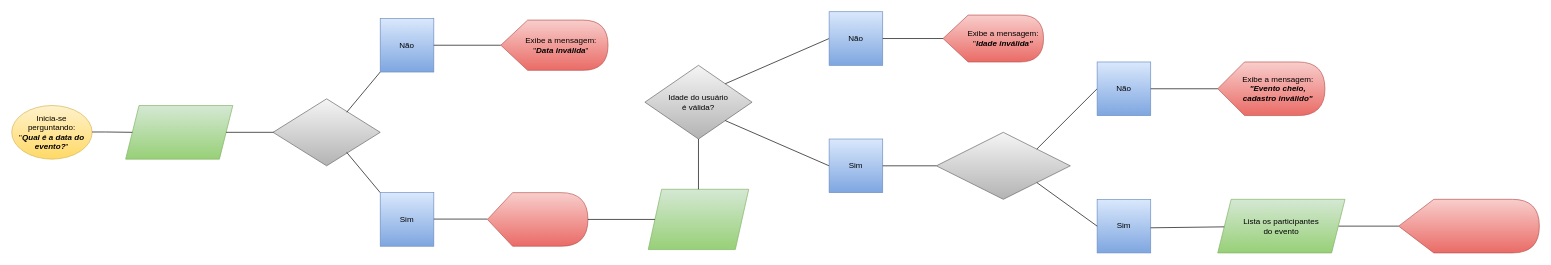
Image size: 1551x265. Some labels were removed from this diagram. Each missing label, with the centre of its shape:
Data do evento é válida?: (326,132)
Exibe a mensagem: " Cadastro realizado com sucesso!": (1468,226)
Exibe a mensagem: " Informe a sua idade ": (537,219)
O evento tem menos de 100 pessoas?: (1003,165)
Usuário digita sua idade: (698,219)
Usuário entra com a data do evento.: (179,132)
